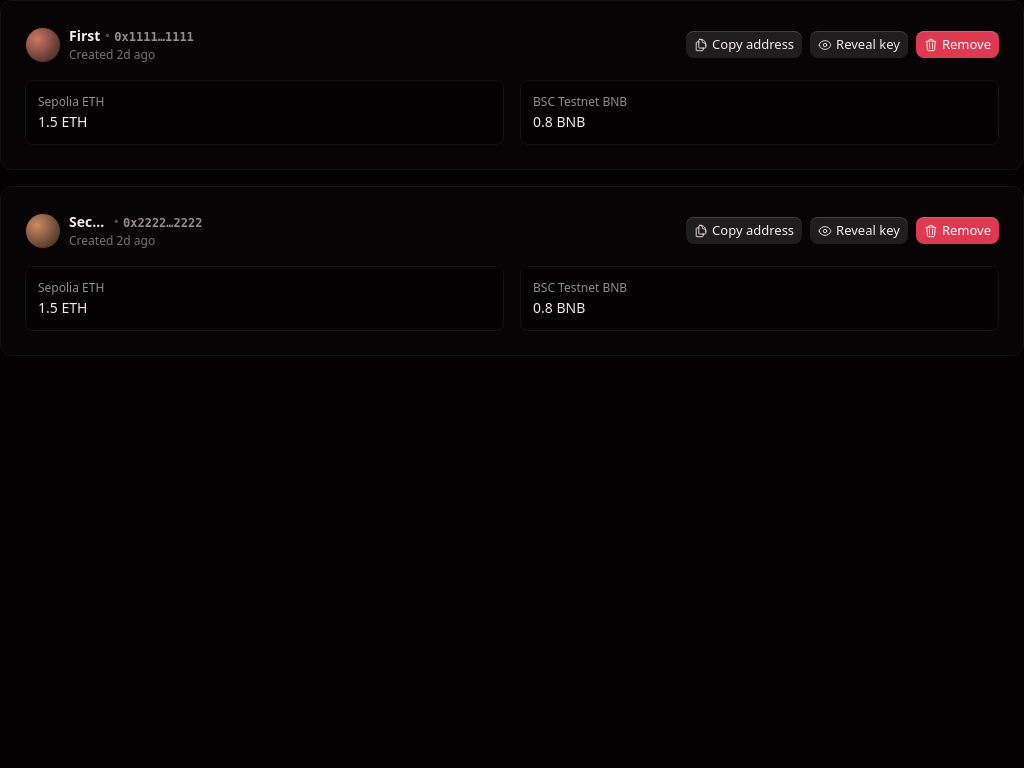
it: WalletList › private key revelation › should handle multiple wallets independently
Click the button "Reveal key" in the row of "0x1111…1111": (859,45) [810, 31, 908, 58]
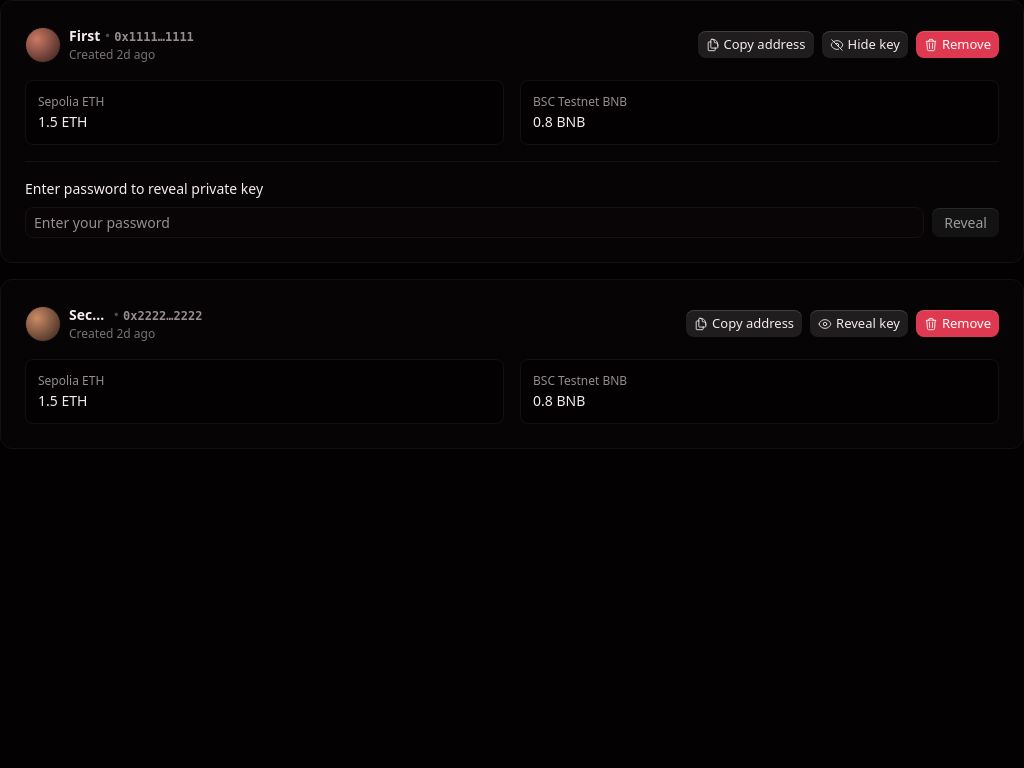
Check: the number of password fields labelled "Enter password to reveal private key" is 1, box [25, 207, 924, 238]
Click the button "Reveal key": (859,324) [810, 310, 908, 337]
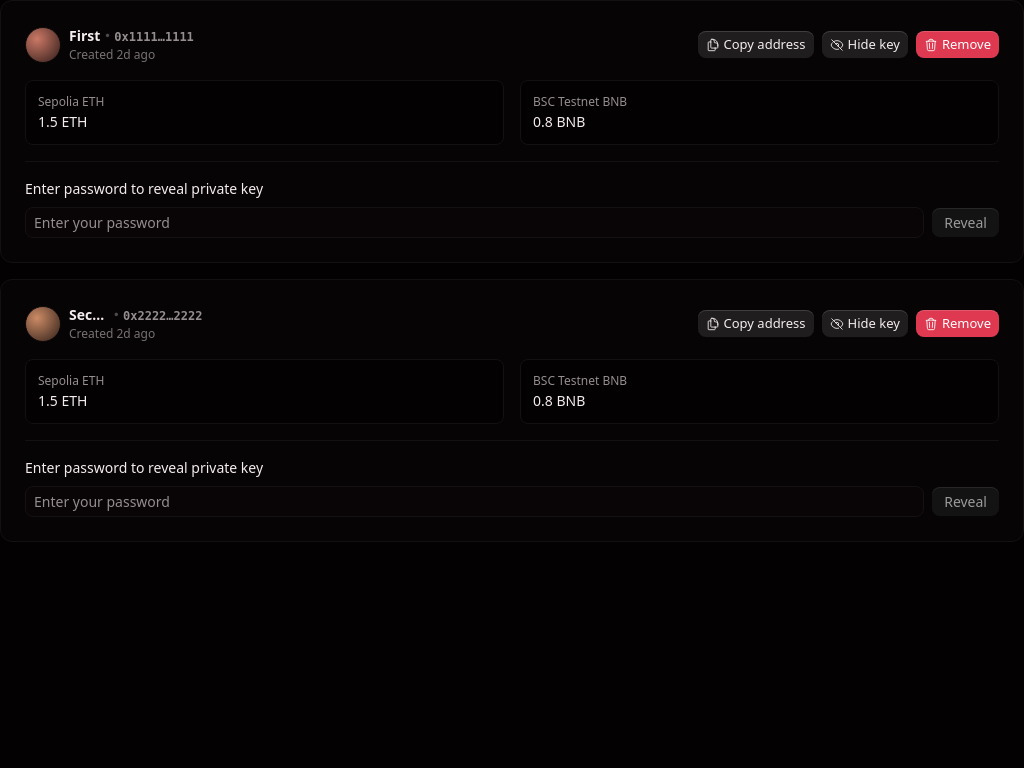
Check: the number of password fields labelled "Enter password to reveal private key" is 2, box [25, 207, 924, 238]; [25, 486, 924, 517]
